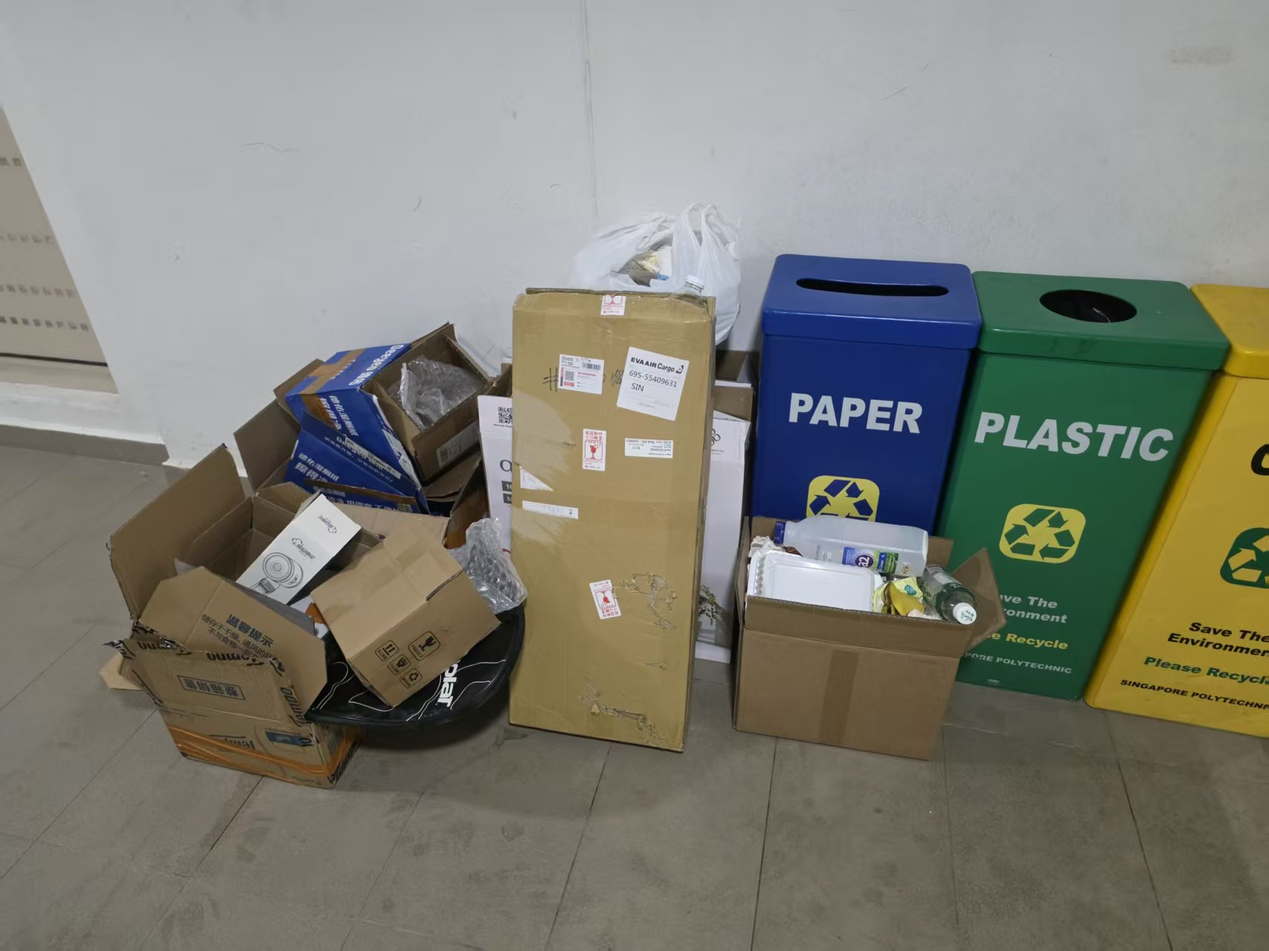bin_empty: (939, 271, 1228, 699), (1085, 284, 1268, 737), (752, 254, 981, 529)
bulk_waste: (110, 402, 501, 787), (510, 289, 714, 750), (733, 515, 1006, 759), (275, 324, 493, 515), (695, 352, 753, 660)
normal_waste: (566, 203, 741, 344)
